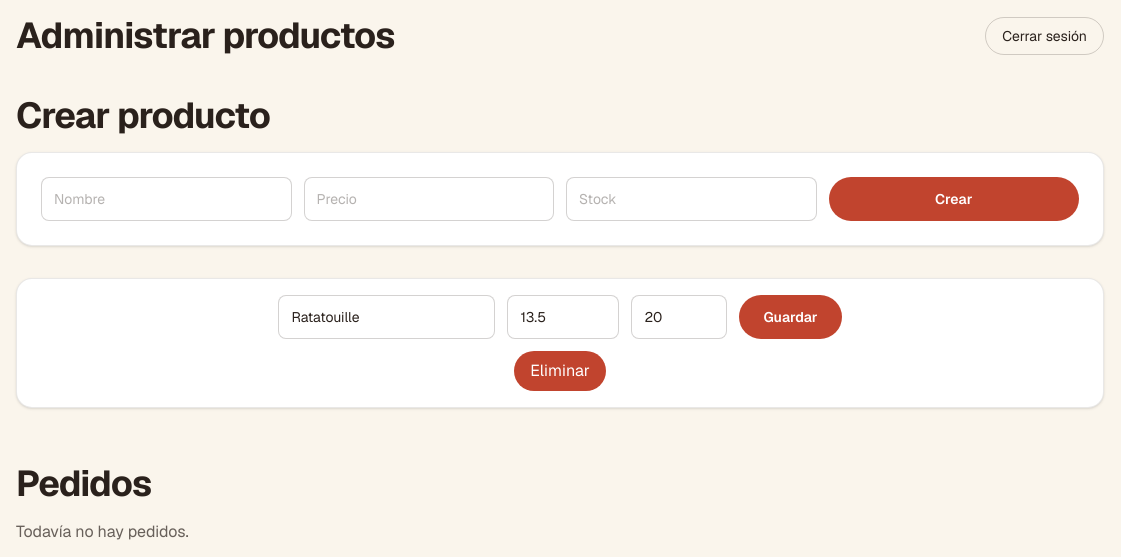
Test: panel administrativo › cierra la sesión y borra el token
Expected: the heading "Administrar productos" is shown, x1=16 y1=16 x2=395 y2=56
Click the button "Cerrar sesión".
click(1045, 36)  # box x1=985 y1=17 x2=1104 y2=55
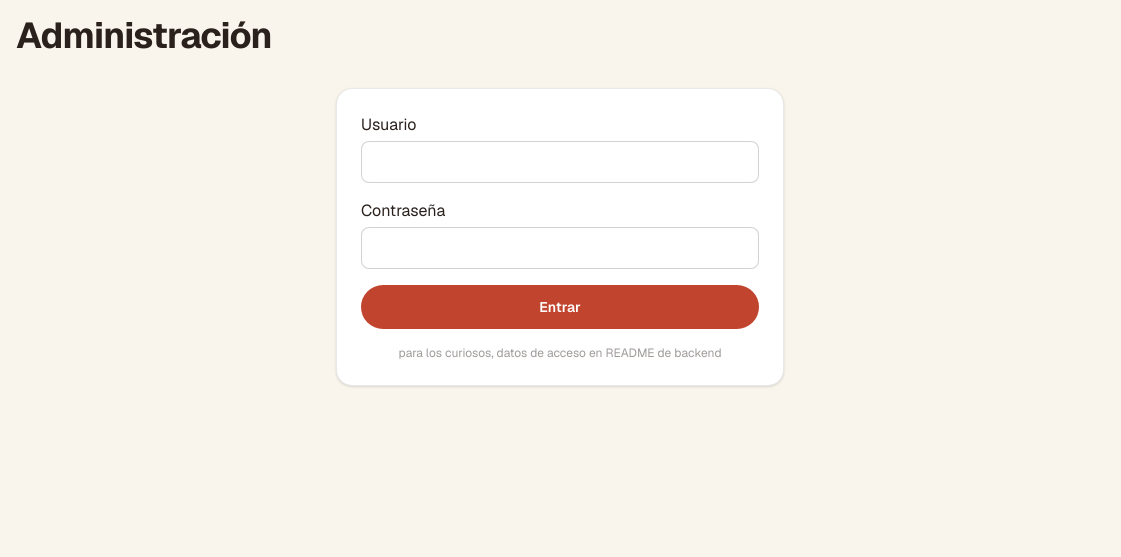
Now the field labelled "Usuario" is shown, box x1=361 y1=141 x2=759 y2=183
